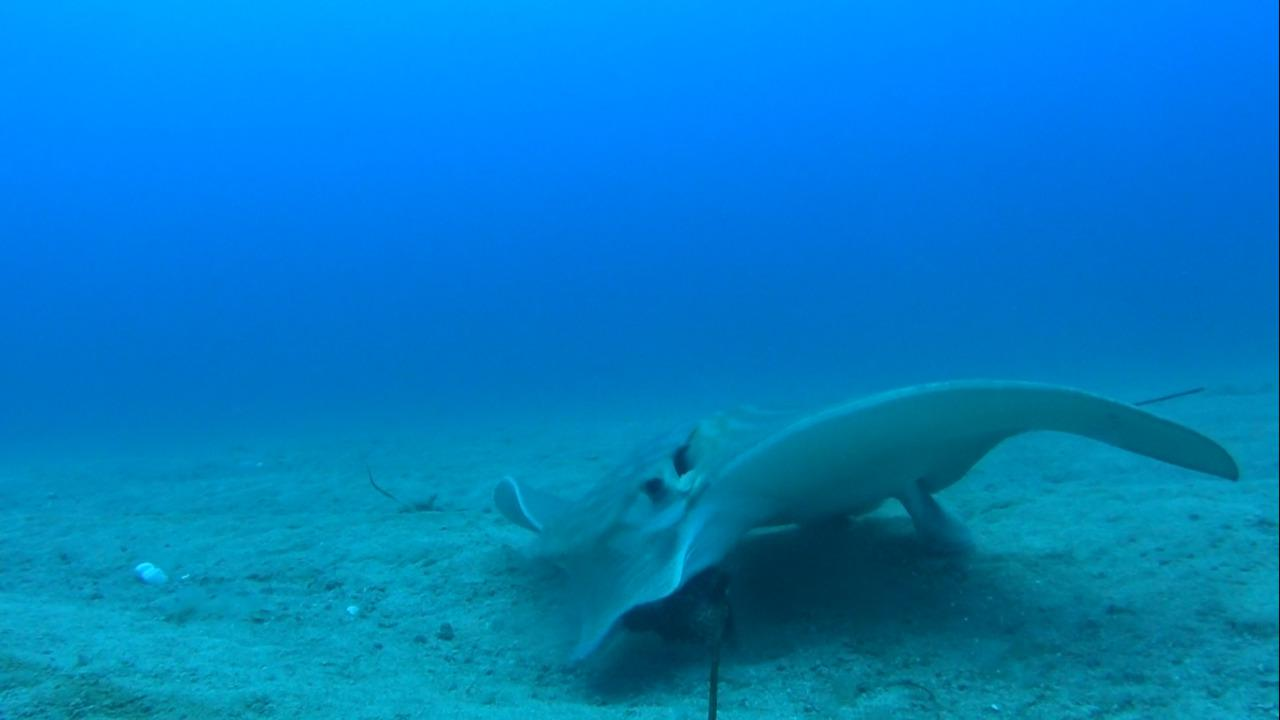myliobatis: (481, 373, 1252, 672)
